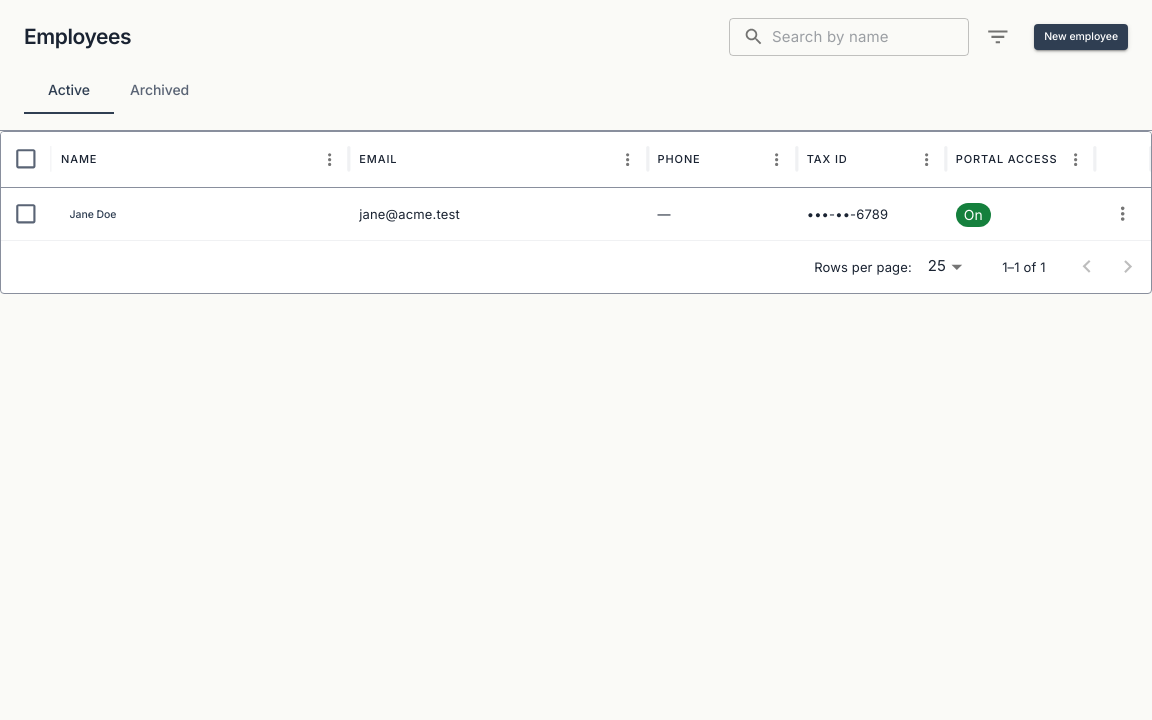
Test case: Employees (M0005-R026) › lists employees with masked tax IDs and reveals one on request
This screenshot has width=1152, height=720.
Expected: the text "•••-••-6789" is shown, [807,206,888,222]
Expected: the text "On" is shown, [964,207,983,223]
Click the button "Jane Doe": {"x": 93, "y": 215} [61,202,125,228]
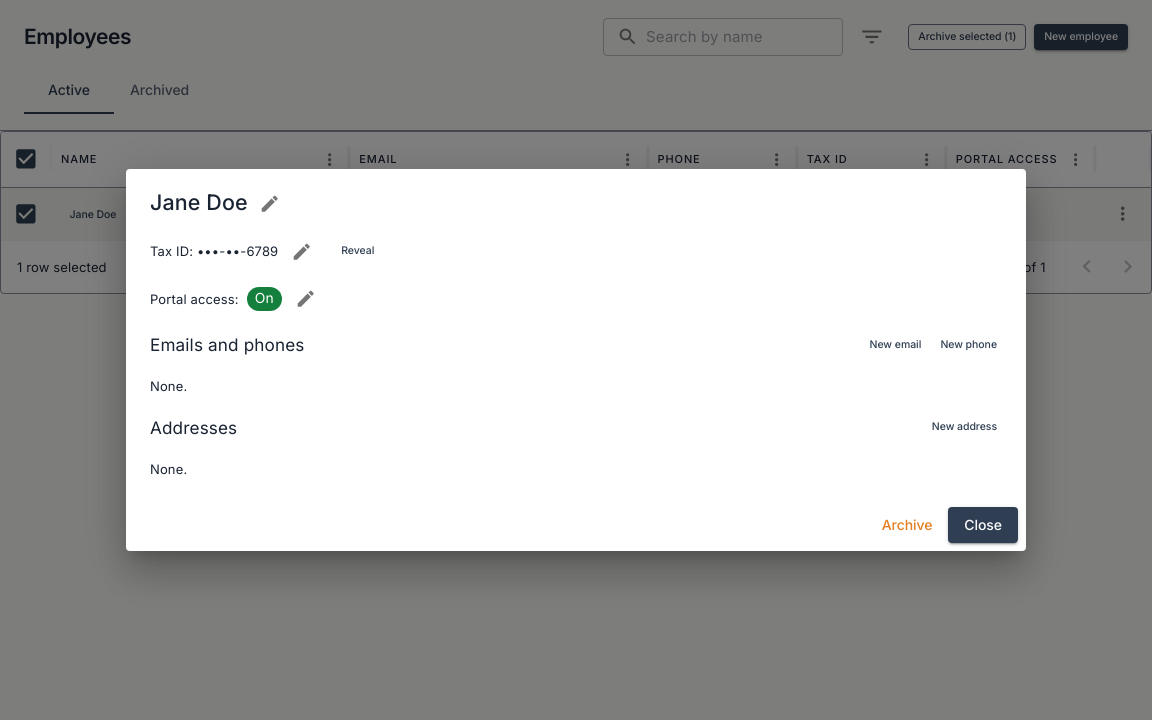
Click the button "Reveal": {"x": 358, "y": 251} [326,238,390,264]
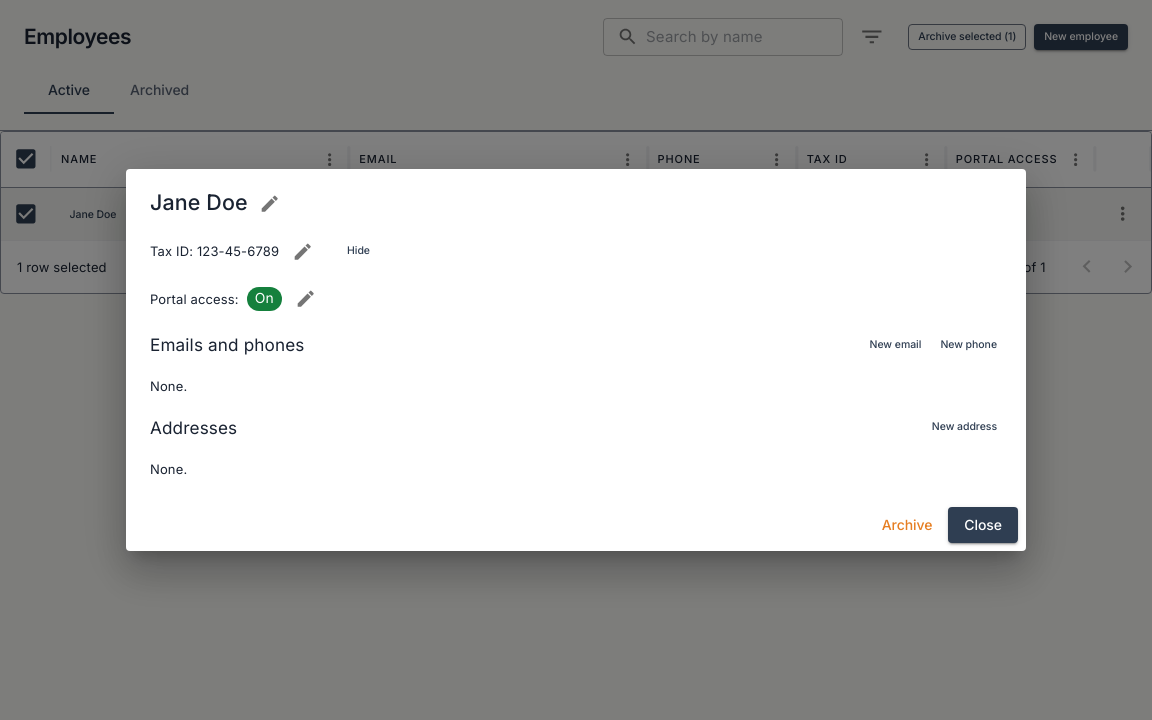
Expected: the text "Tax ID: 123-45-6789" is shown, [150,241,279,261]
